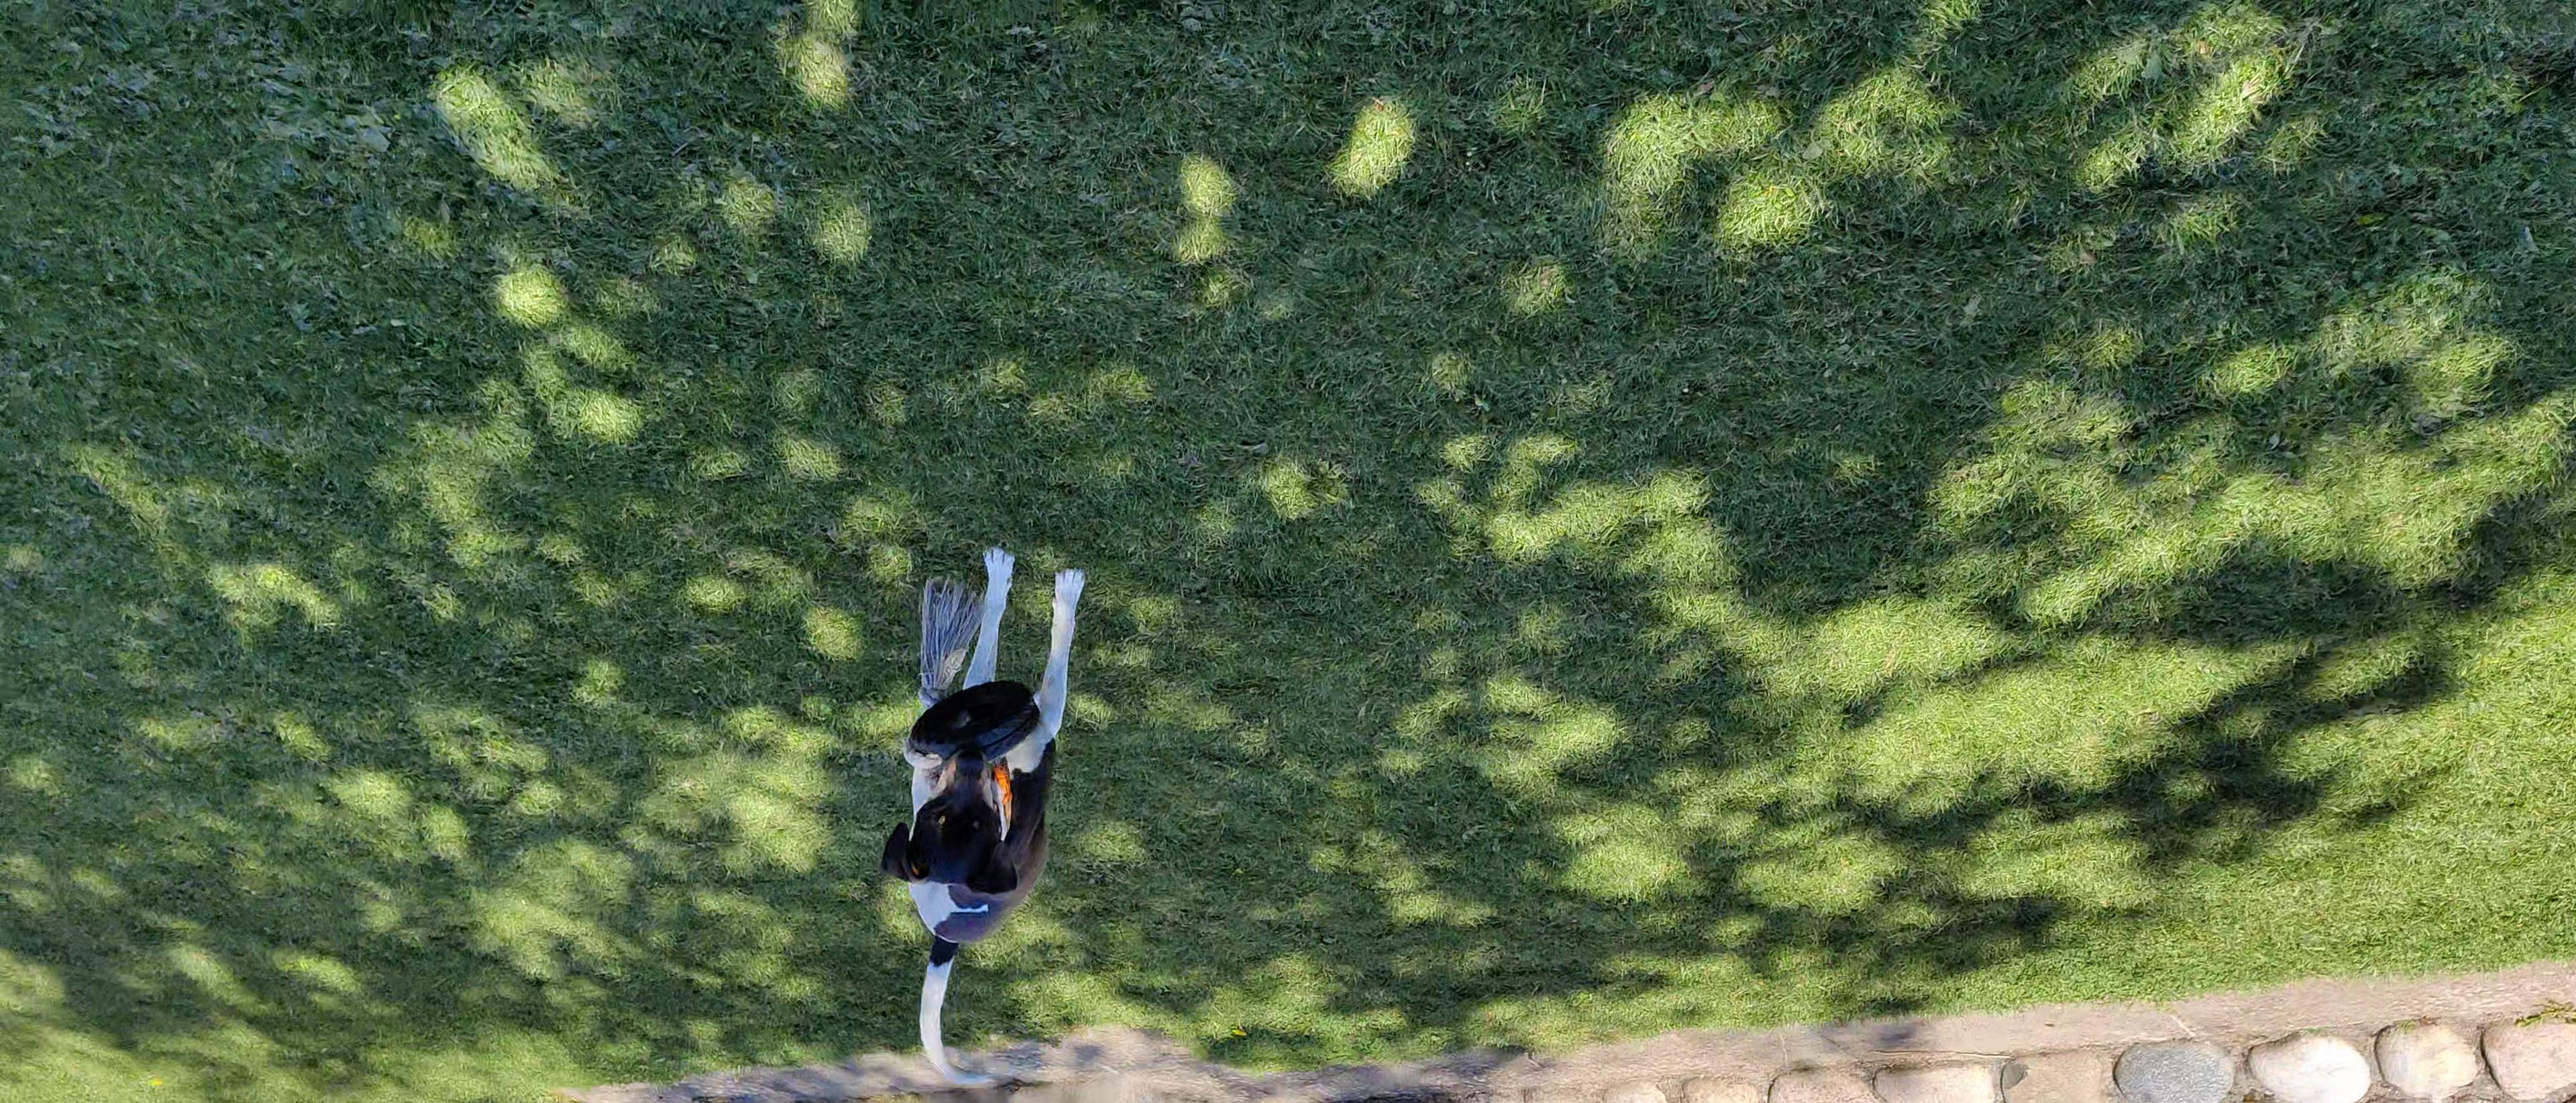Dog: (874, 531, 1096, 1093)
